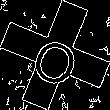O_N: (25, 24, 85, 86)
